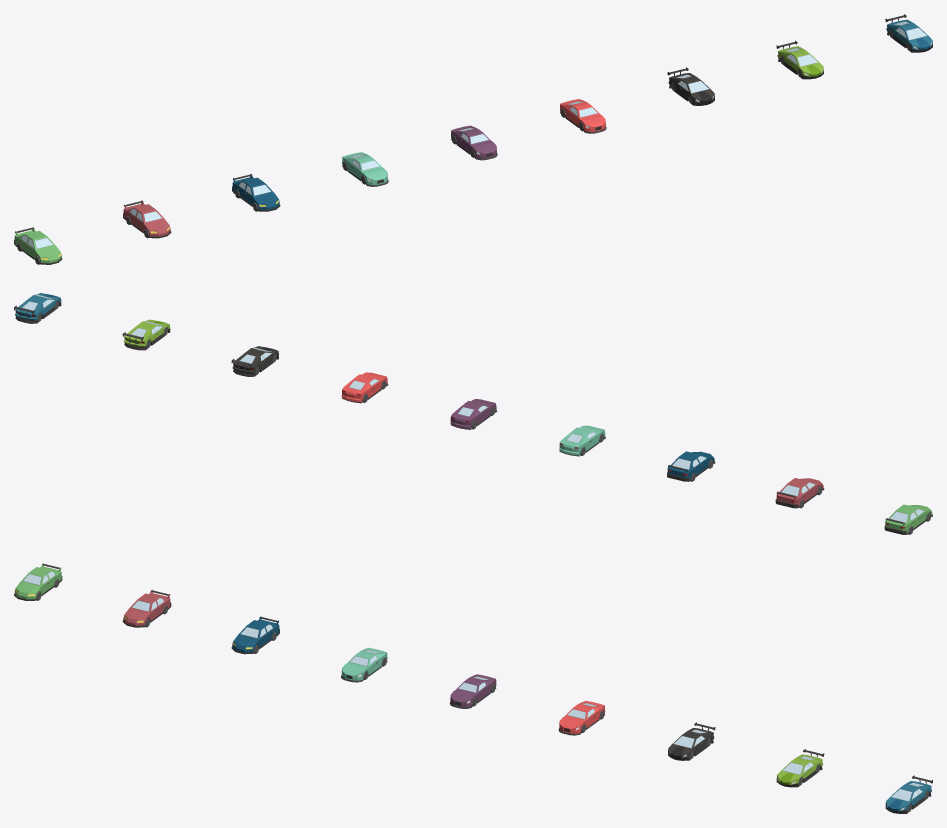
Rendered from city_cars.glb.
The picture shows the model from 3 angles, top to bottom: view 1: azimuth 30°, elevation 25°; view 2: azimuth 150°, elevation 25°; view 3: azimuth 330°, elevation 25°; orthographic projection.
Parts seen in each view (by area): view 1: Car_3_3_Mat_0; view 2: Car_3_3_Mat_0; view 3: Car_3_3_Mat_0.
Boxes of the visible parts, left/top/right/bottom form: Car_3_3_Mat_0: left=14, top=14, right=932, bottom=264; Car_3_3_Mat_0: left=14, top=293, right=932, bottom=534; Car_3_3_Mat_0: left=14, top=563, right=932, bottom=813.
Bounding box in the file's own units: 25.1 × 0.4779 × 1.51.
Materials: 1 (1 with a texture image).
